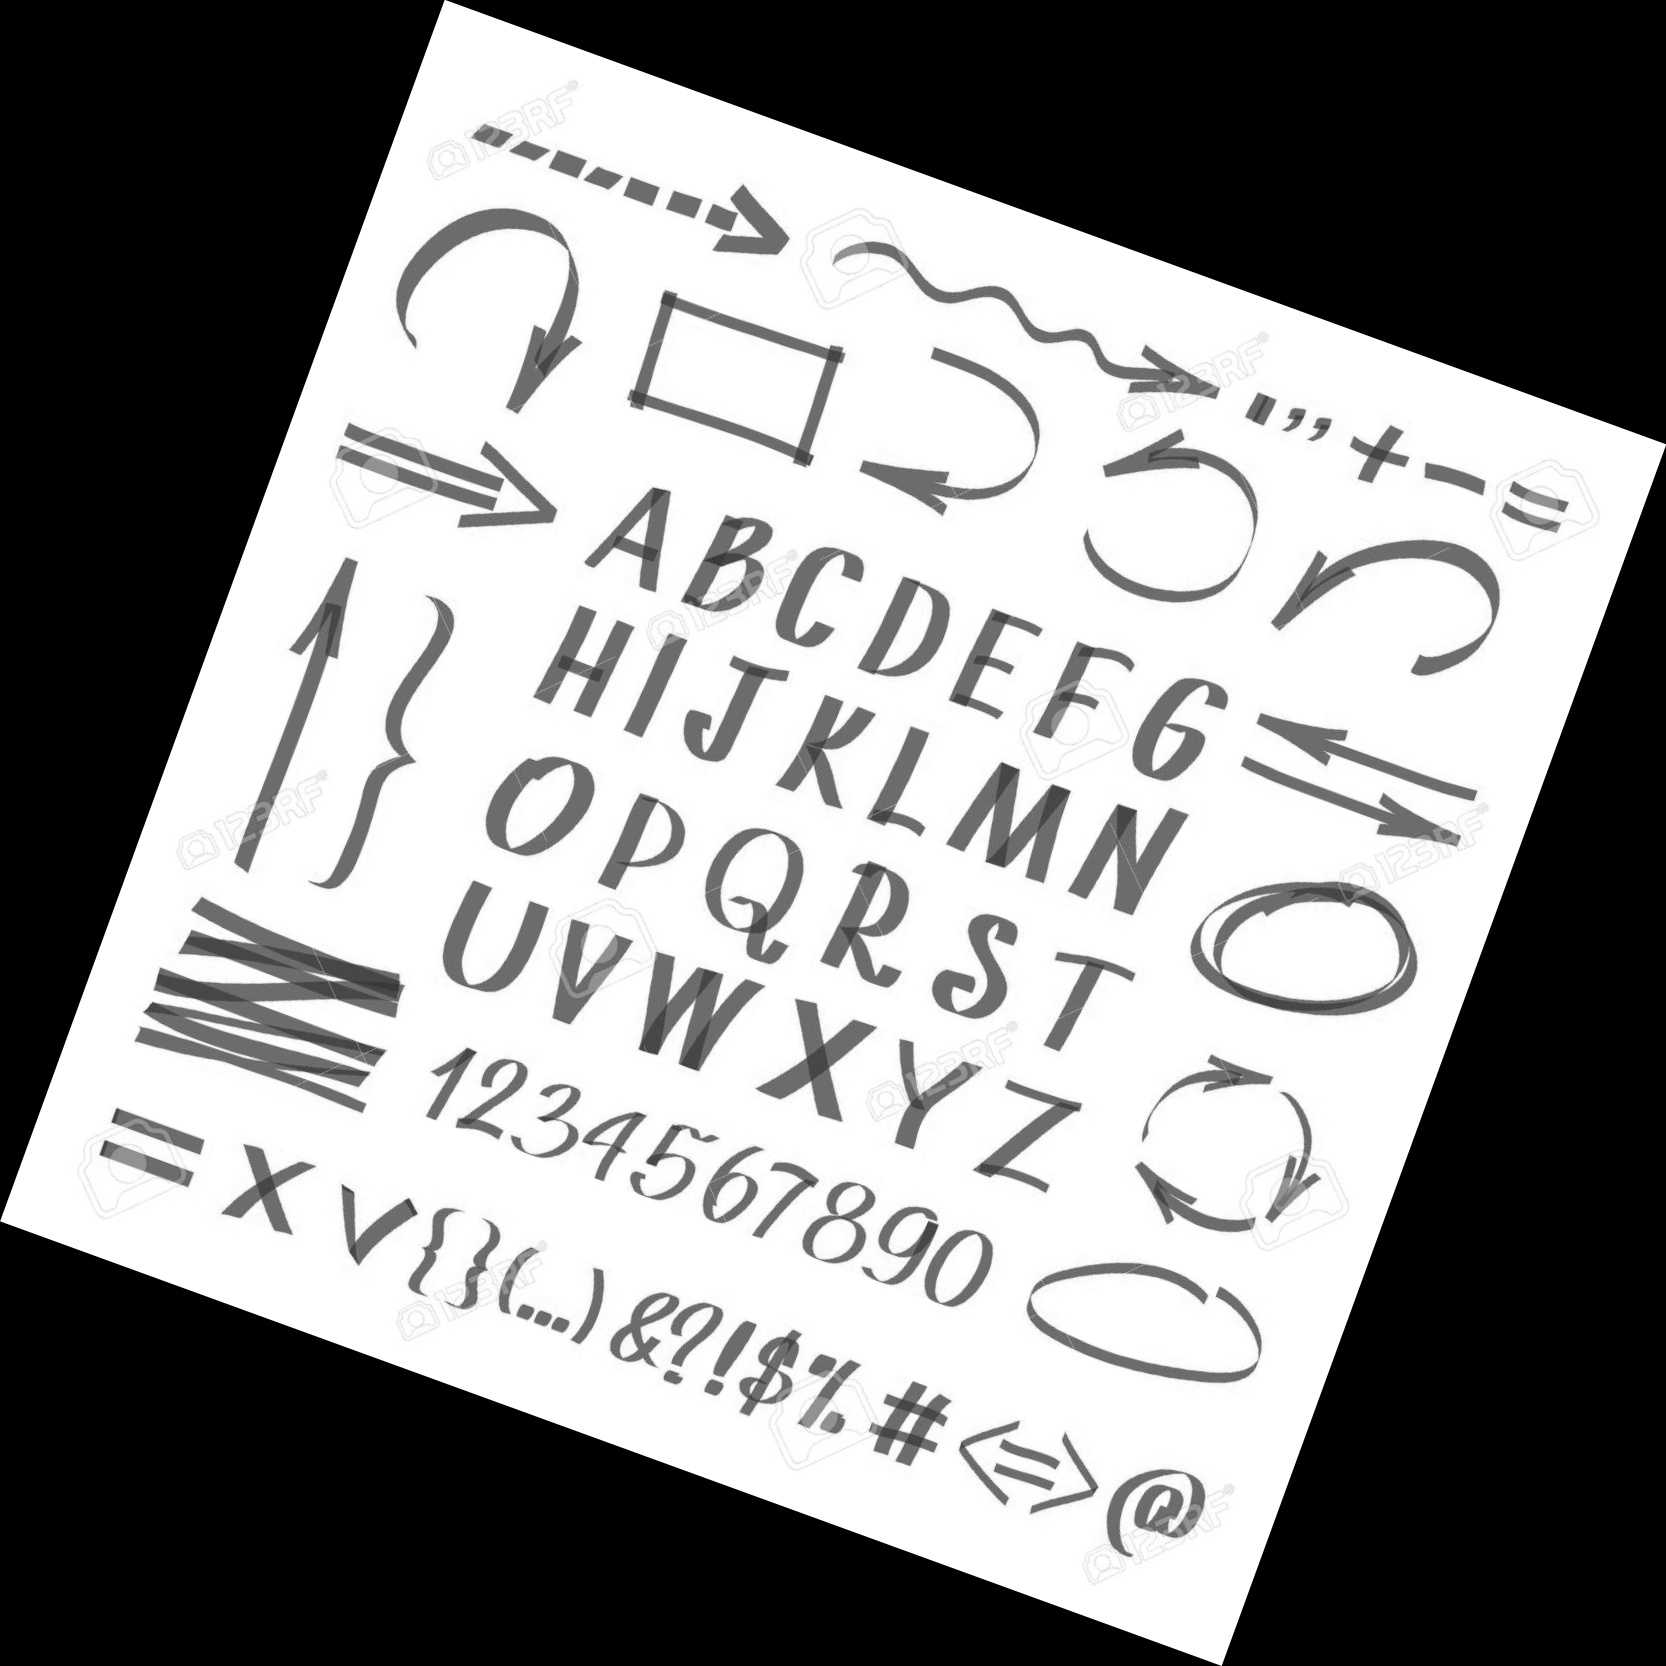arrow: (619, 148, 799, 267), (1257, 520, 1425, 638), (275, 555, 371, 760), (1249, 696, 1437, 787), (850, 441, 1016, 535), (1295, 781, 1475, 867), (1086, 313, 1230, 410), (1086, 416, 1240, 505), (502, 294, 590, 427), (1118, 1155, 1240, 1236), (1156, 1044, 1285, 1103), (1263, 1130, 1326, 1233)
